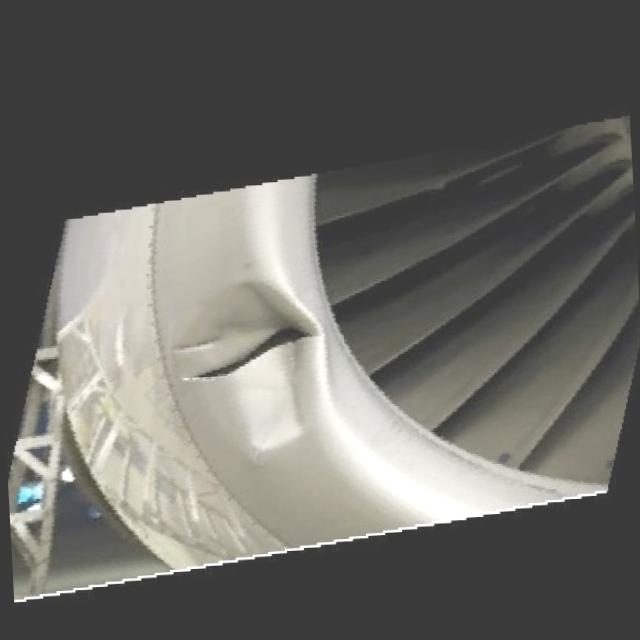crack: (179, 323, 320, 387)
